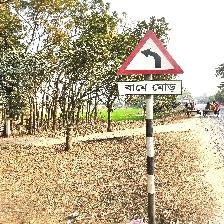Left-Turn: (116, 29, 184, 97)
